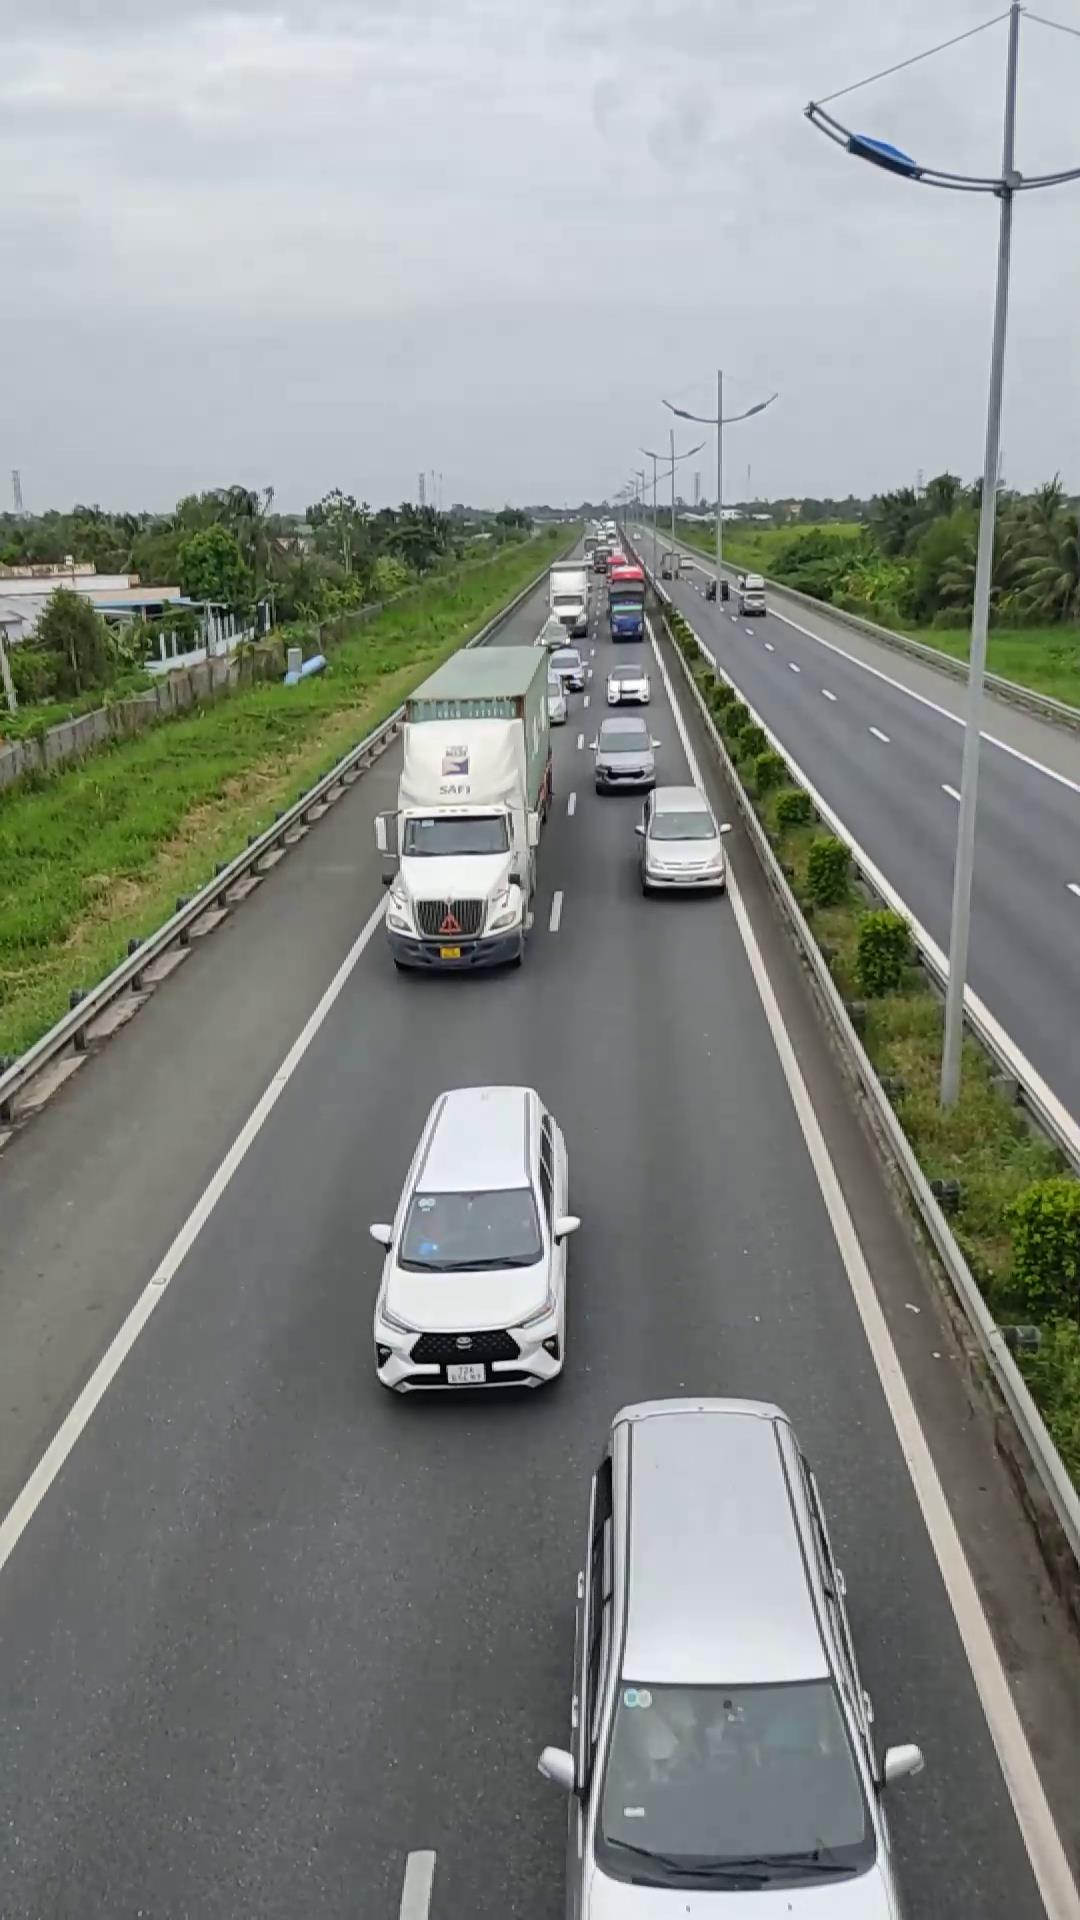car: (553, 1395, 910, 1919), (367, 1083, 580, 1399), (634, 785, 729, 895)
container: (381, 640, 556, 975)
